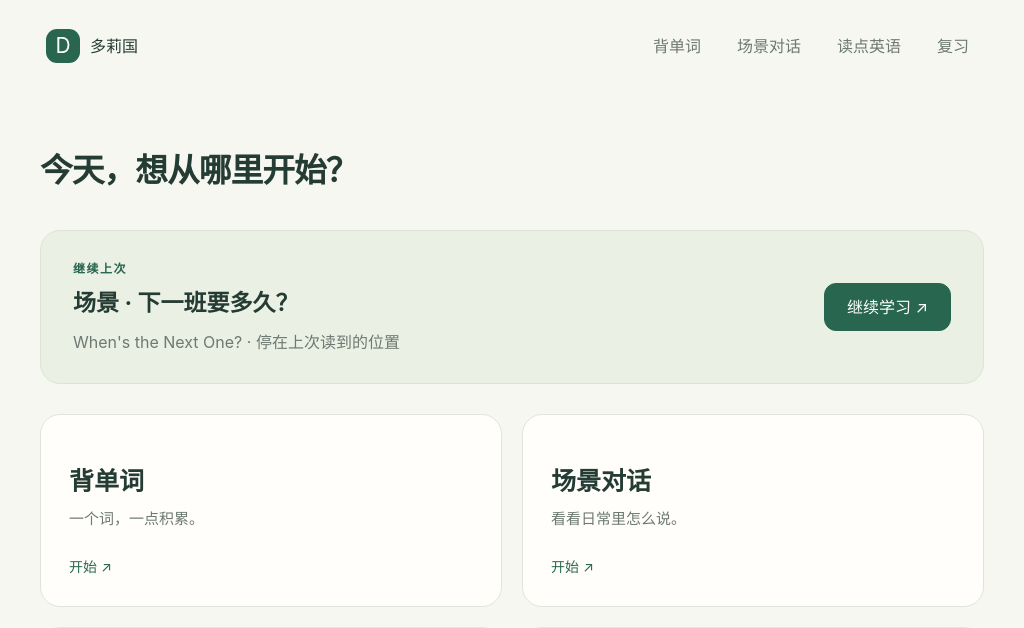
Scenario: opens incremental scene scene-next-bus-delayed from home resume
Click the button "继续学习 ↗": (888, 307) top-left (824, 283), bottom-right (951, 332)
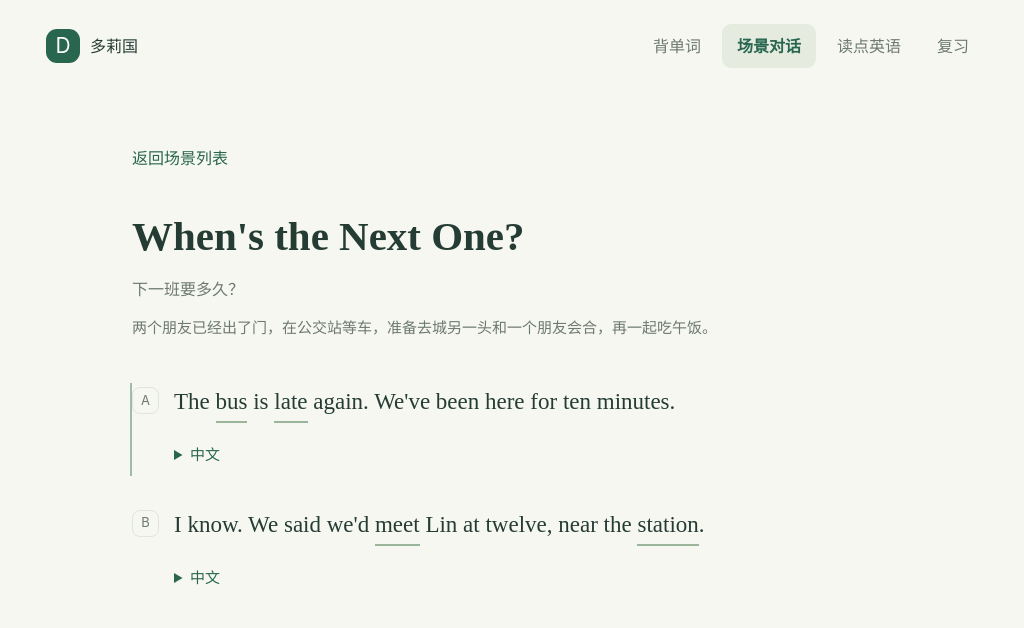
Now the heading "When's the Next One?" is shown, box top-left (132, 213), bottom-right (524, 259)
